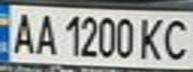0: (115, 15, 139, 61), (97, 13, 118, 60)
1: (57, 11, 81, 57)
2: (78, 11, 100, 58)
A: (6, 9, 39, 55), (30, 10, 57, 56)
C: (157, 15, 193, 62)
K: (136, 15, 169, 62)
